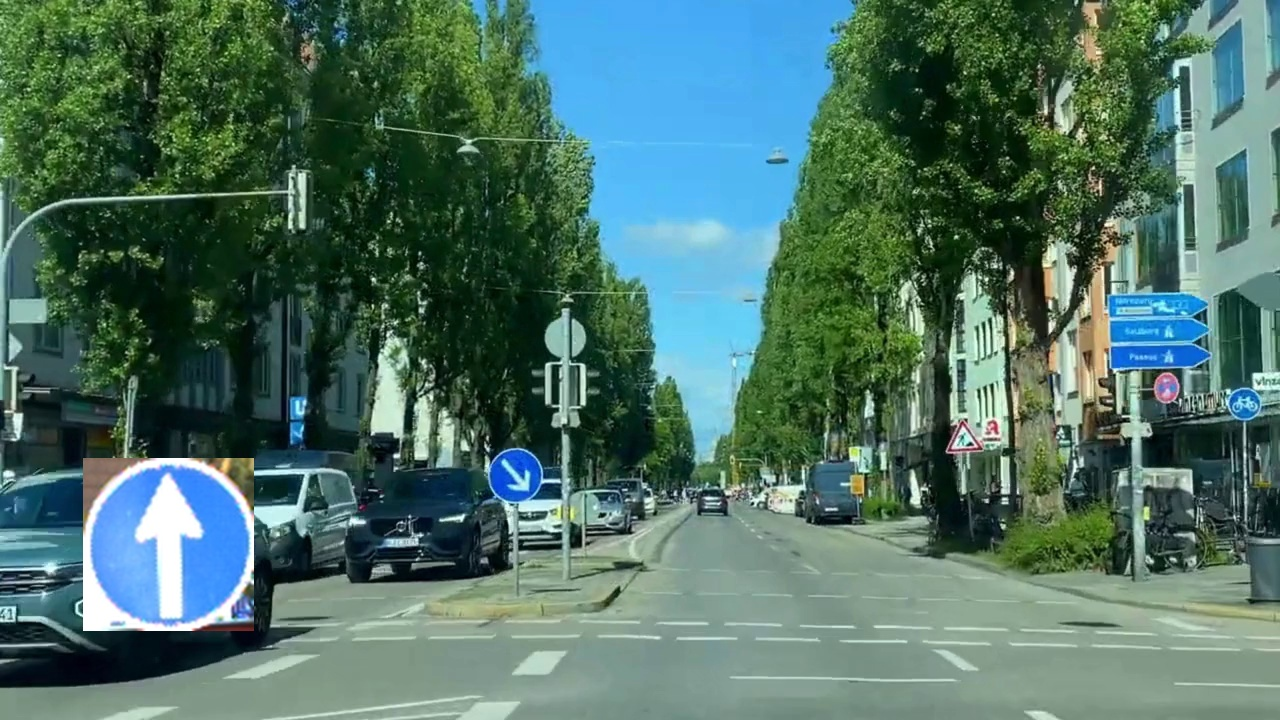Ahead only: (83, 458, 254, 631)
